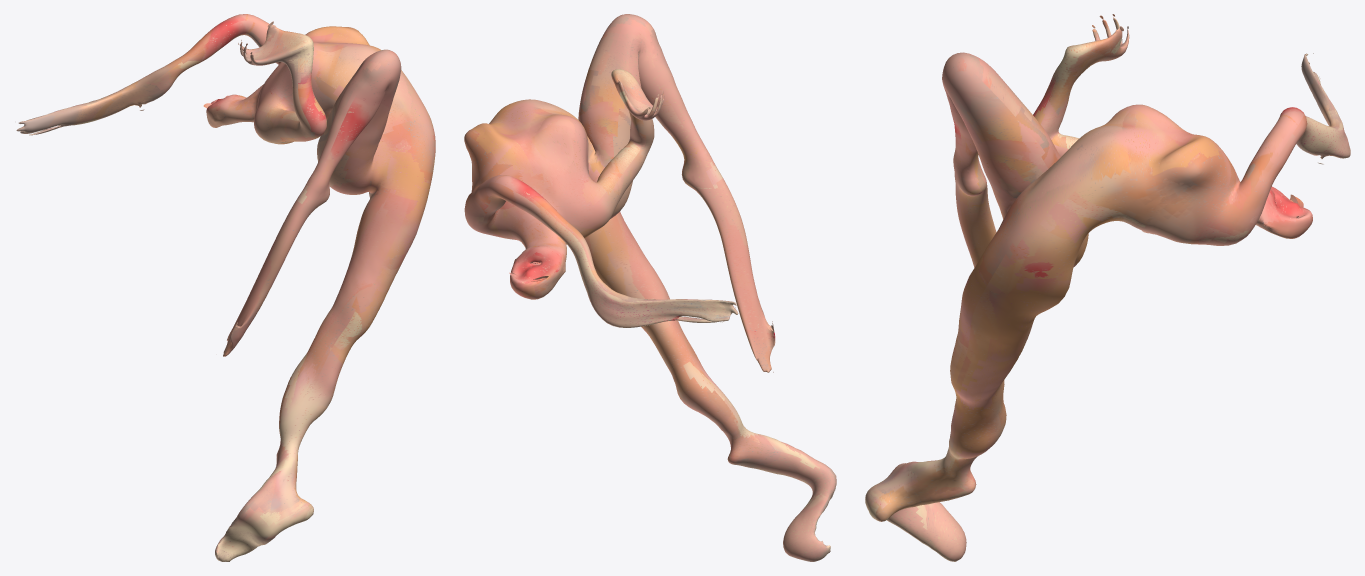
The model's file is Candida_v02.glb.
3 views of the same model, side by side, from view 1: azimuth 30°, elevation 25°; view 2: azimuth 150°, elevation 25°; view 3: azimuth 270°, elevation 25° (orthographic). The views are drawn at different scales.
Parts seen in each view (by area): view 1: resert; view 2: resert; view 3: resert.
Boxes of the visible parts, <box> form: resert: <box>16,14,435,561</box>; resert: <box>464,14,836,561</box>; resert: <box>865,14,1350,561</box>.
Bounding box in the file's own units: 78.97 × 113 × 82.77.
1 material, 1 textured.
